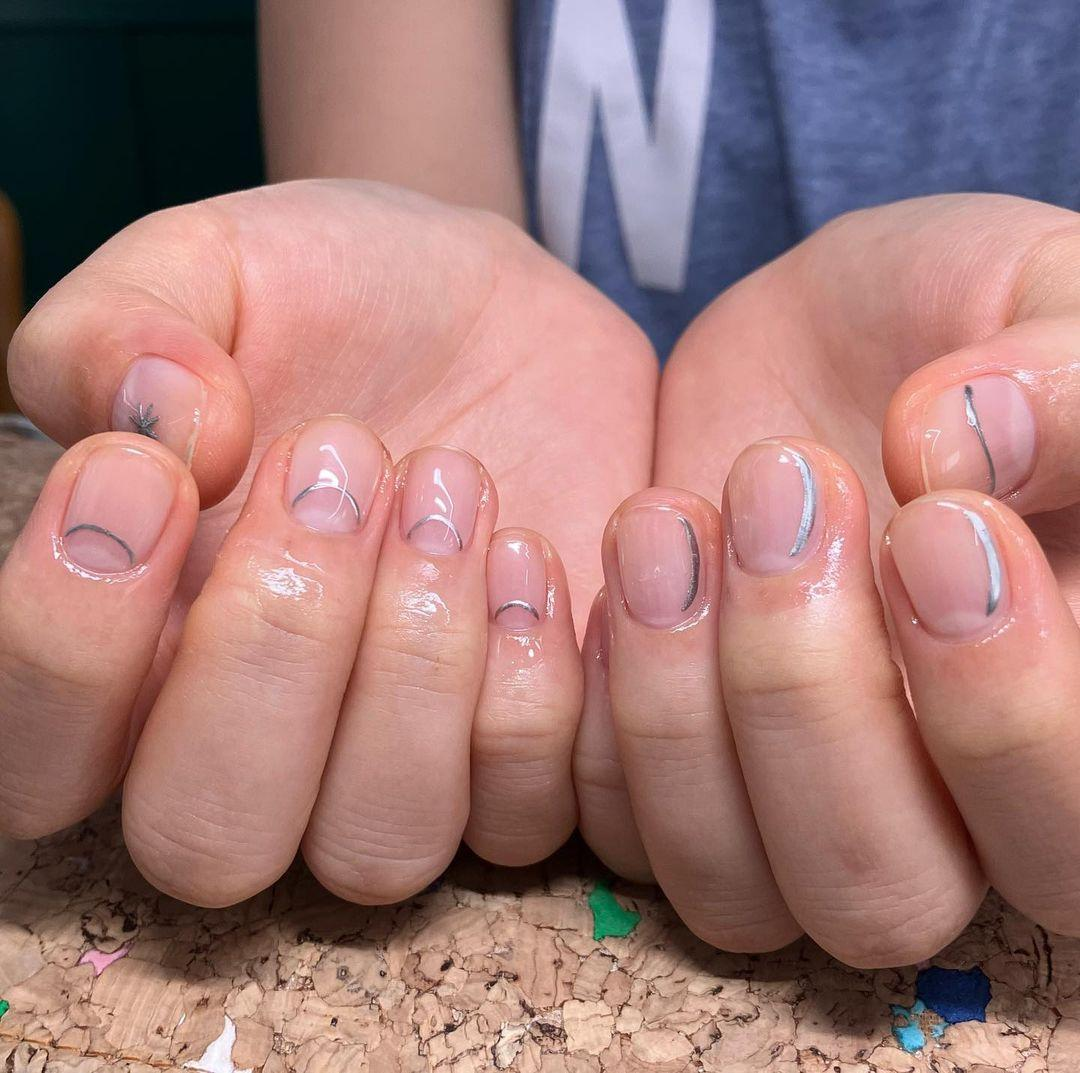nail: (884, 495, 1008, 639), (53, 441, 178, 582), (722, 438, 818, 575), (282, 413, 383, 535), (109, 352, 207, 470), (613, 503, 703, 630), (393, 444, 485, 556), (485, 528, 550, 630)
